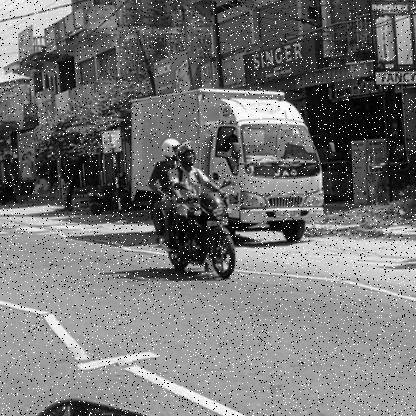motorcycle: (150, 190, 238, 280)
